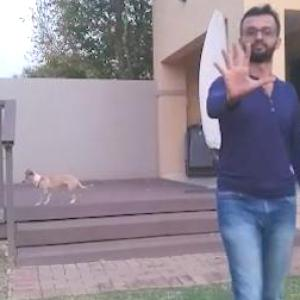follow_hand: (210, 36, 278, 103)
